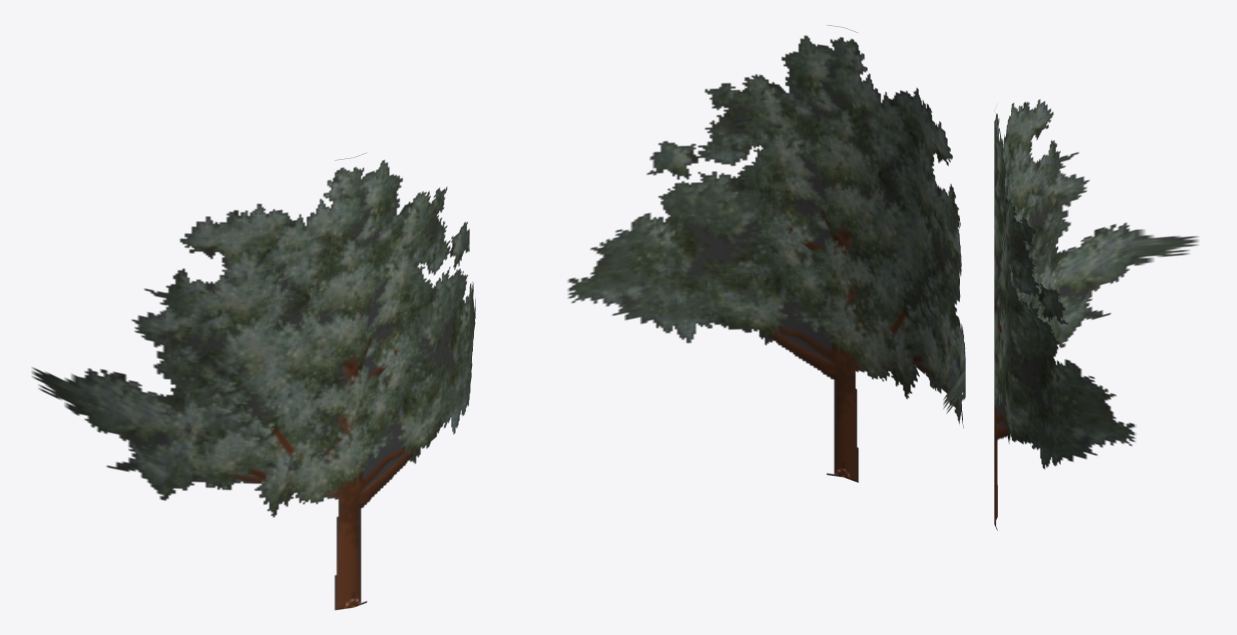
Rendered from treeLP6.glb.
3 views of the same model, side by side, from view 1: azimuth 30°, elevation 25°; view 2: azimuth 150°, elevation 25°; view 3: azimuth 270°, elevation 25° (orthographic). The views are drawn at different scales.
Visible parts, largest first — view 1: tree; view 2: tree; view 3: tree.
Boxes of the visible parts, x1=… form: tree: x1=32, y1=153, x2=475, y2=610; tree: x1=568, y1=25, x2=965, y2=482; tree: x1=994, y1=99, x2=1198, y2=530.
Size of the model in its own units: 14 by 14 by 7.
1 material, 1 textured.
